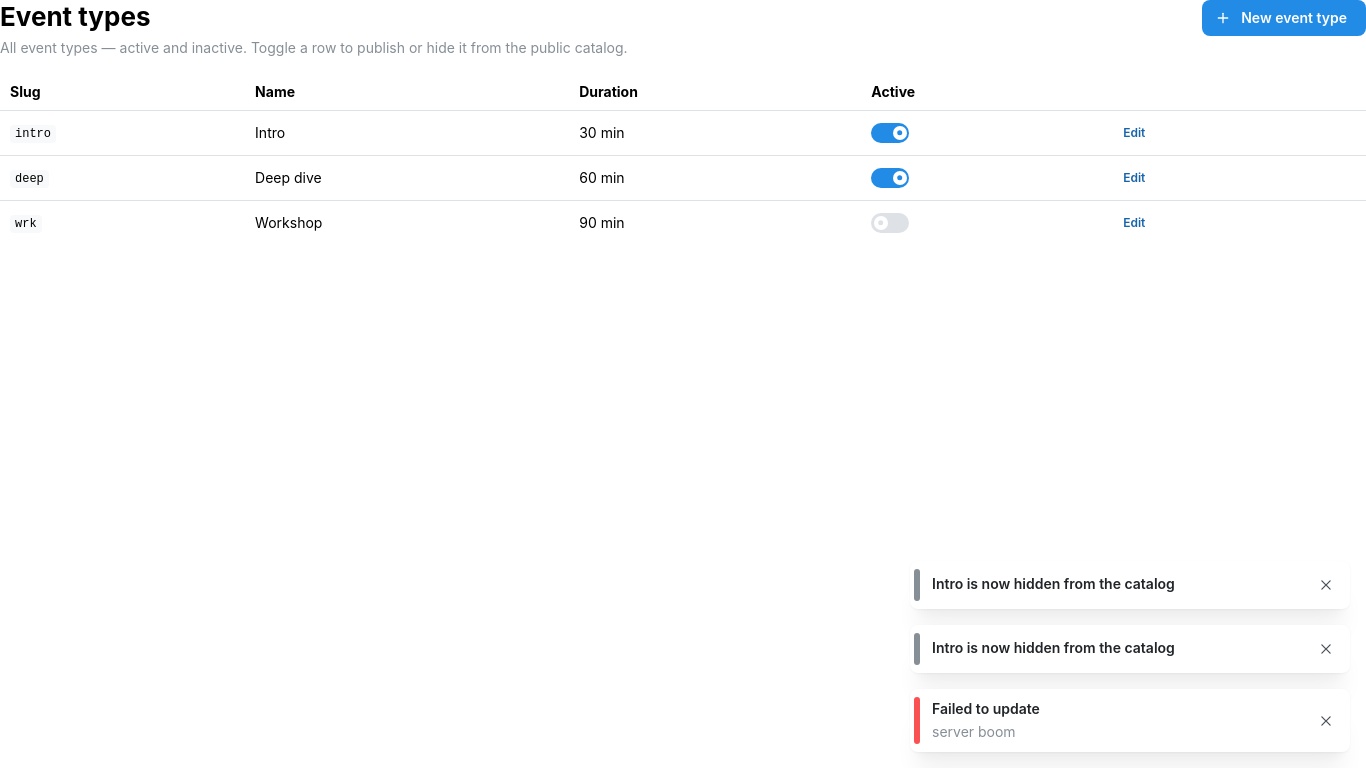
EventTypesPage › opens the create modal from the header button
Expected: the text "Intro" is shown, top-left (245, 110), bottom-right (569, 155)
Click the button "New event type" at (1284, 18), box top-left (1202, 0), bottom-right (1365, 36)
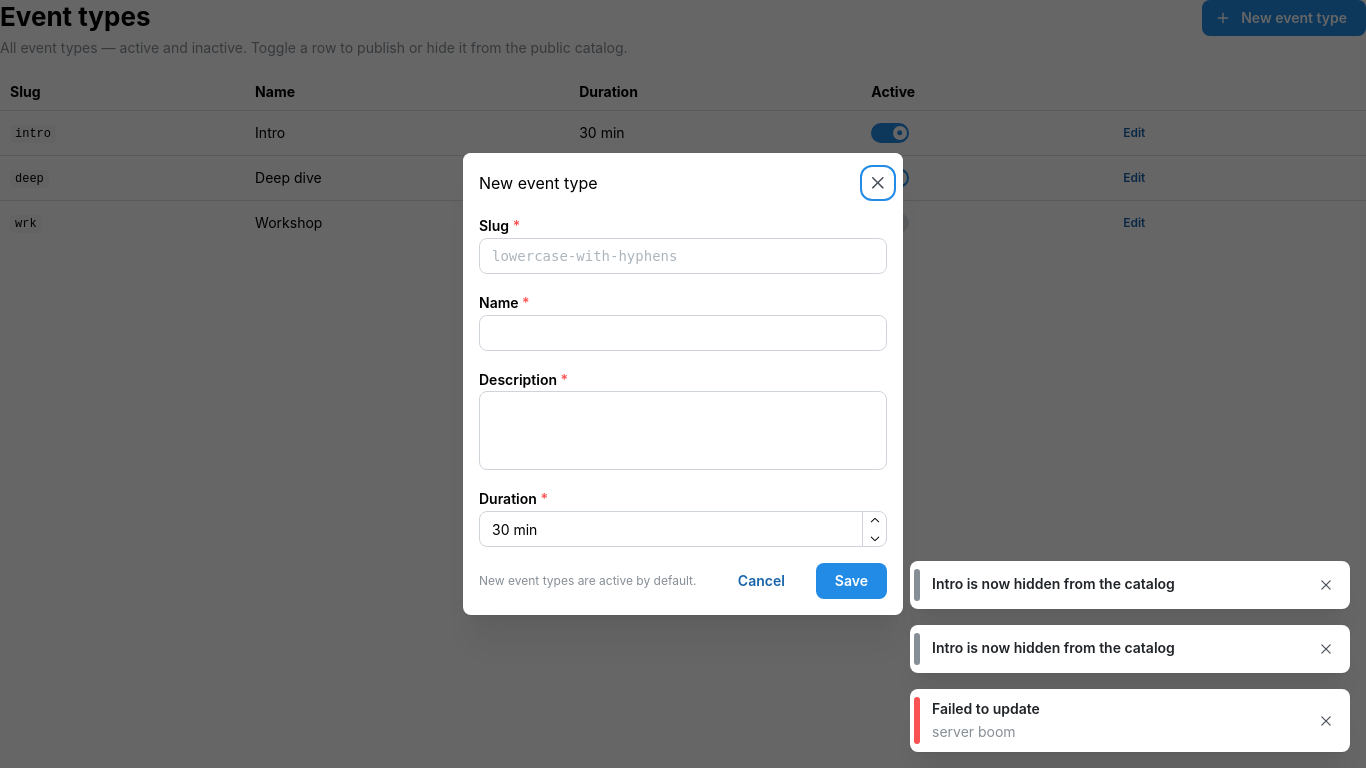
Result: the dialog "New event type" is shown at top-left (463, 153), bottom-right (903, 615)
